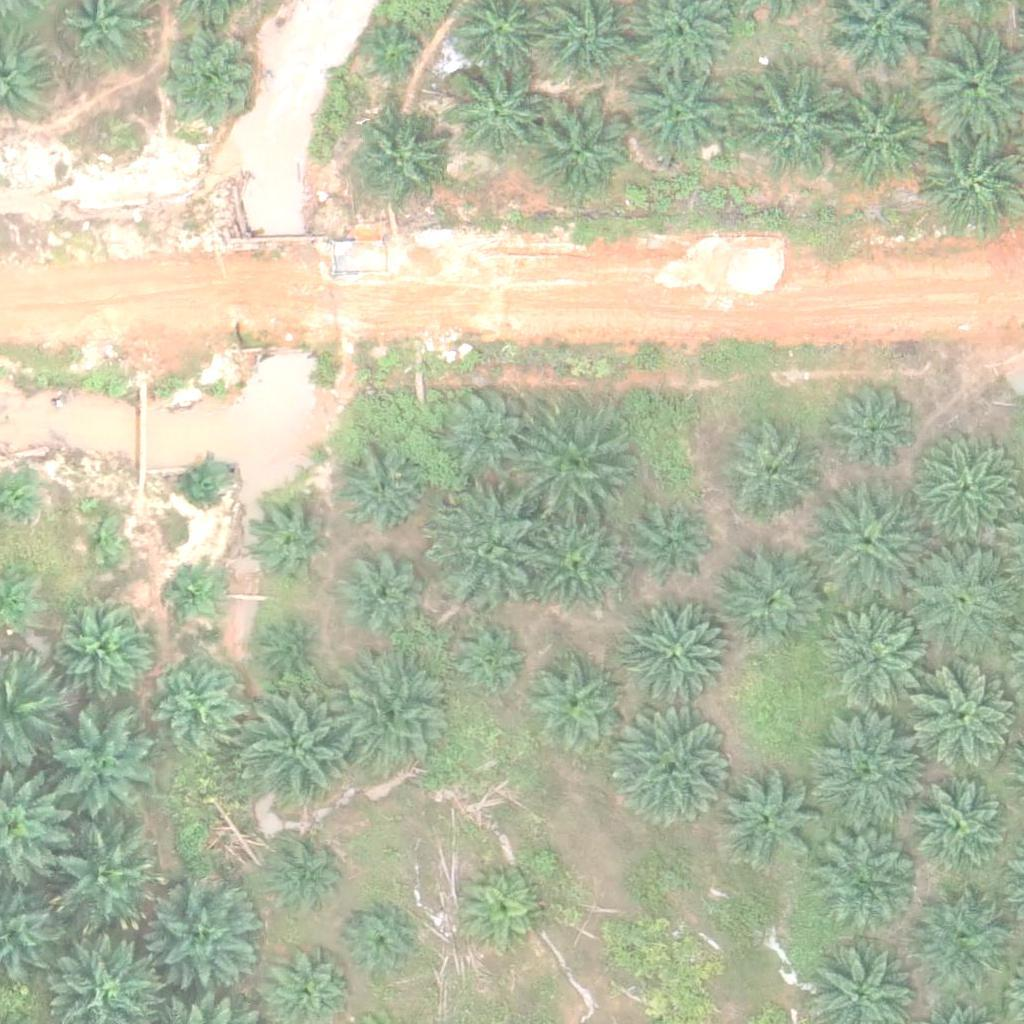Kelapa_Sawit: (611, 714, 724, 828), (337, 663, 450, 777), (905, 664, 1018, 777), (905, 435, 1018, 548), (819, 605, 932, 718), (808, 828, 921, 941), (242, 686, 355, 799), (41, 710, 154, 823), (621, 58, 734, 171), (523, 97, 636, 210), (904, 541, 1016, 655), (143, 876, 255, 990), (729, 67, 841, 181), (817, 484, 929, 597), (814, 720, 926, 833), (622, 600, 734, 713), (519, 413, 631, 526), (429, 492, 541, 605), (52, 827, 164, 940), (819, 86, 931, 199), (823, 378, 923, 479), (717, 766, 817, 867), (718, 551, 818, 652), (525, 511, 625, 612), (431, 378, 531, 479), (351, 109, 451, 210), (159, 37, 259, 138), (915, 889, 1015, 989), (910, 777, 1010, 877), (722, 428, 822, 528), (526, 653, 626, 753), (57, 602, 157, 702), (444, 63, 544, 163), (337, 449, 424, 538), (631, 502, 718, 590), (444, 619, 531, 707), (337, 548, 424, 636), (153, 652, 240, 740), (247, 496, 334, 584), (457, 869, 544, 957), (341, 907, 416, 983), (265, 833, 340, 908), (357, 21, 432, 96), (169, 565, 219, 616), (176, 455, 226, 505), (267, 624, 317, 674), (79, 518, 129, 568)
